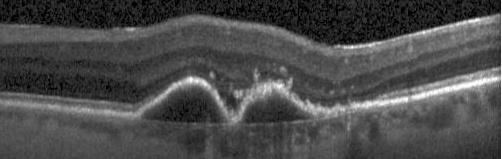neuroepithelium_detachment: (218, 88, 239, 109)
retinal_drusen: (142, 82, 227, 124), (241, 90, 325, 125)
subretinal_hyperreflective_material: (233, 67, 293, 99)
